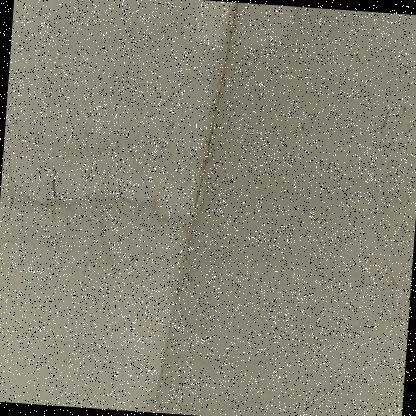Crack: (123, 0, 264, 415)
